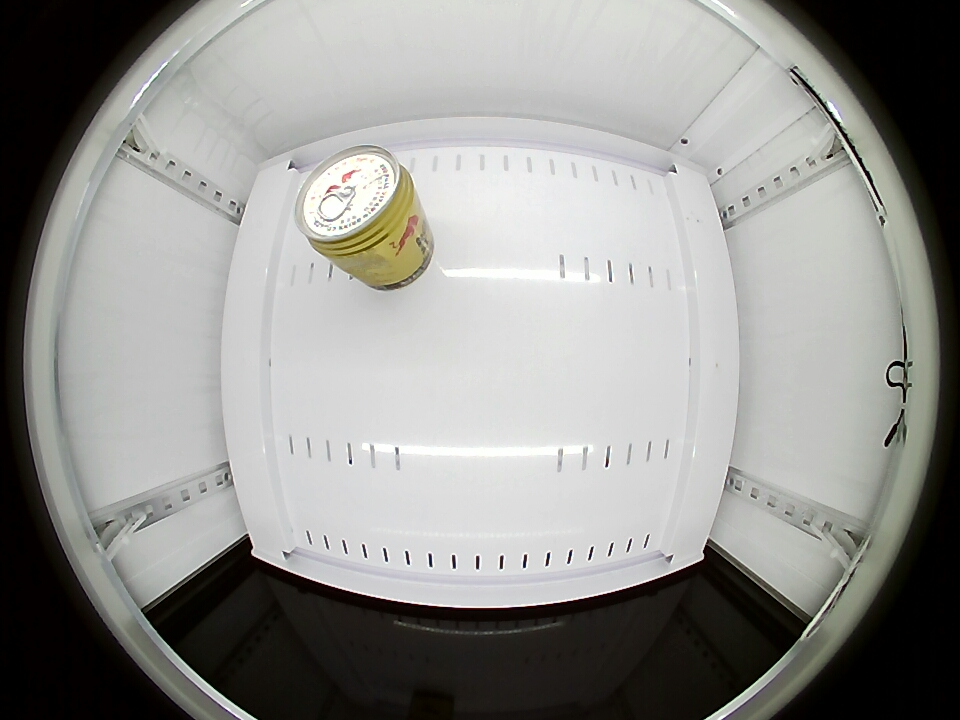hongniu2: (295, 146, 418, 264)
